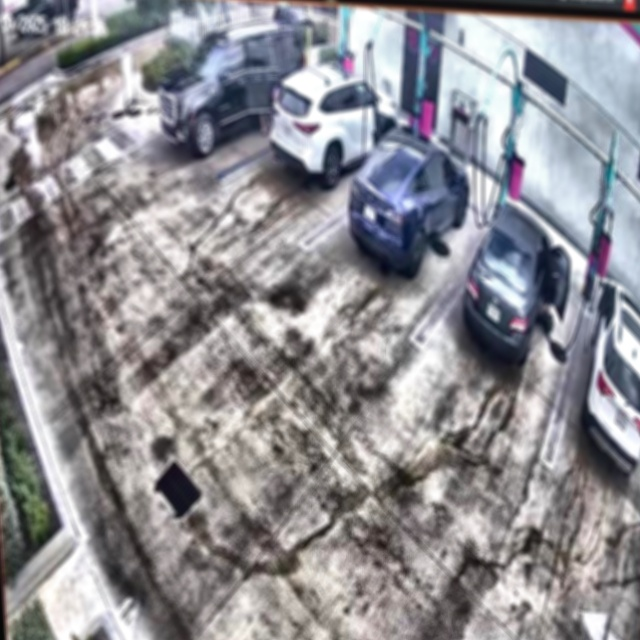Car: (348, 122, 472, 276), (465, 203, 568, 355), (270, 61, 398, 183)
